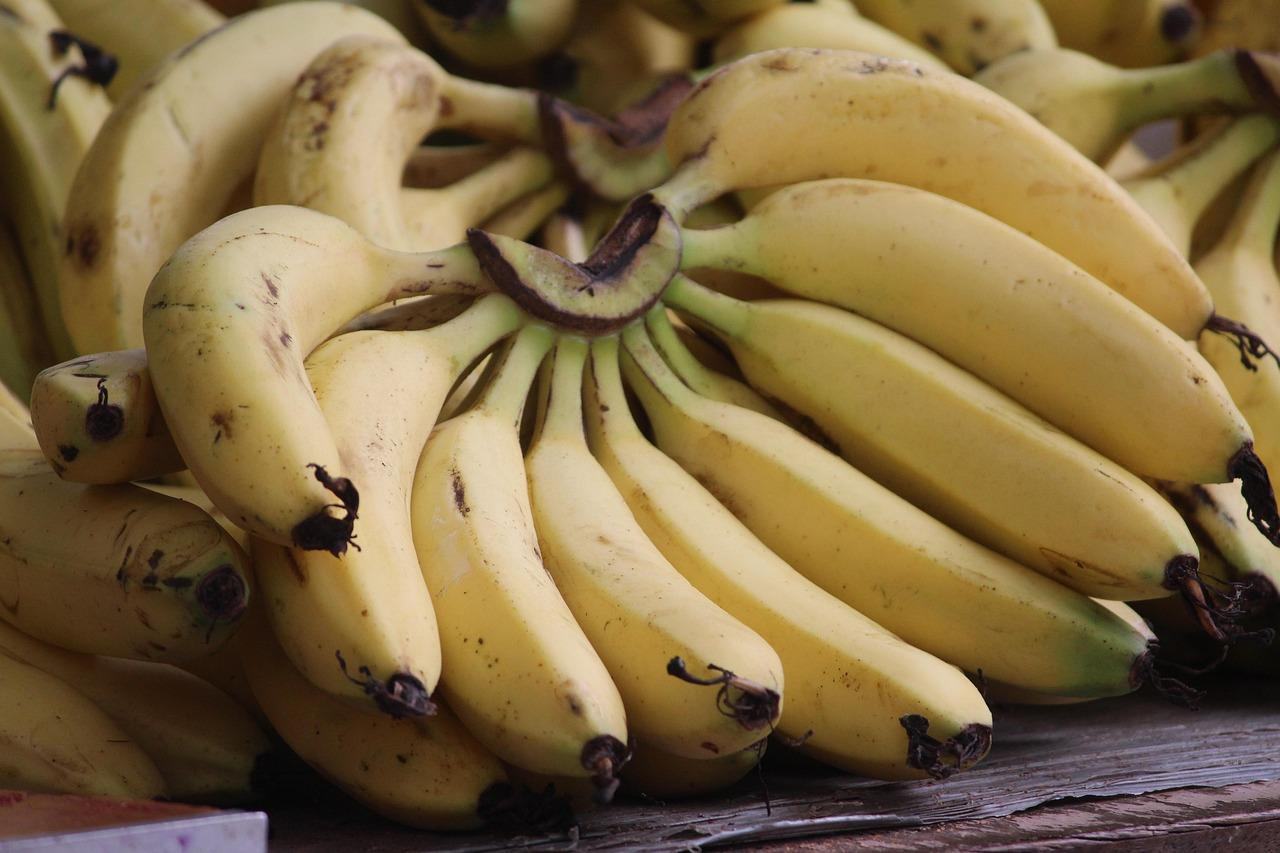banana: (30, 77, 1269, 797)
